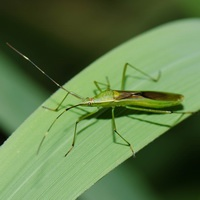insect: (0, 22, 199, 199)
